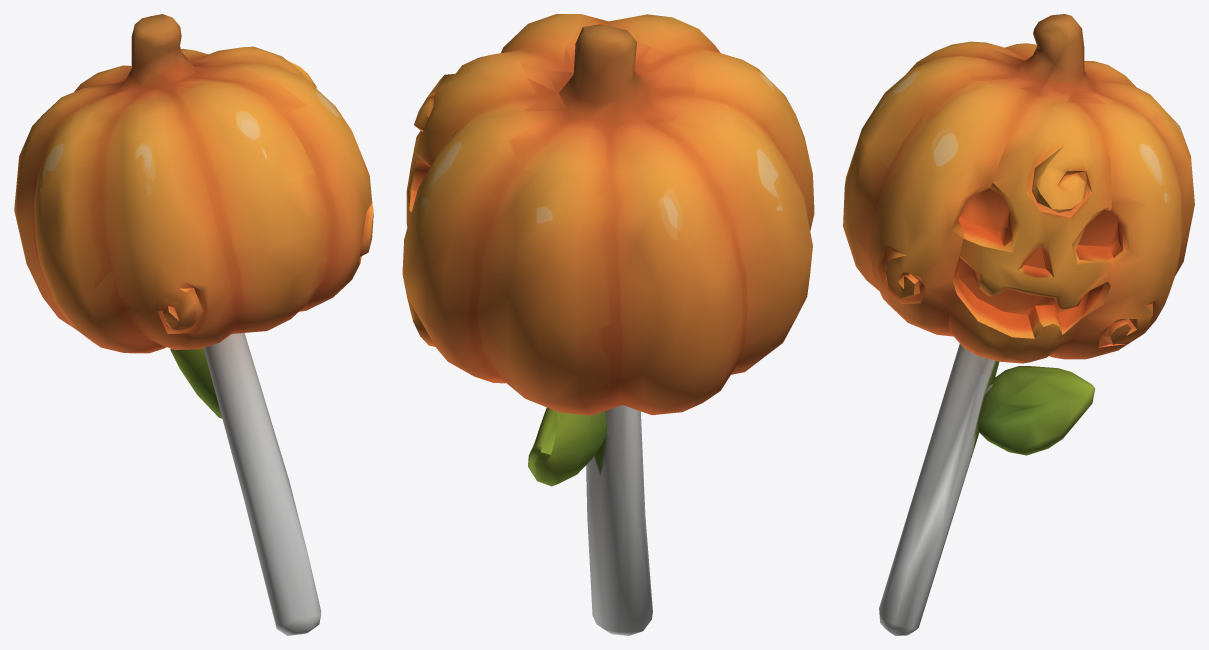
The model's file is S11_LollipopPumpkin_LOD1.fbx.
3 renders of one model, left to right at view 1: azimuth 30°, elevation 25°; view 2: azimuth 150°, elevation 25°; view 3: azimuth 270°, elevation 25°, orthographic. The views are drawn at different scales.
Visible parts, largest first — view 1: S11_LollipopPumpkin_LOD1; view 2: S11_LollipopPumpkin_LOD1; view 3: S11_LollipopPumpkin_LOD1.
Boxes of the visible parts, bbox=[...] form: S11_LollipopPumpkin_LOD1: bbox=[14, 14, 373, 635]; S11_LollipopPumpkin_LOD1: bbox=[402, 14, 814, 635]; S11_LollipopPumpkin_LOD1: bbox=[843, 14, 1194, 635].
Size of the model in its own units: 0.0496 by 0.0899 by 0.0493.
Materials: 1 (1 with a texture image).
